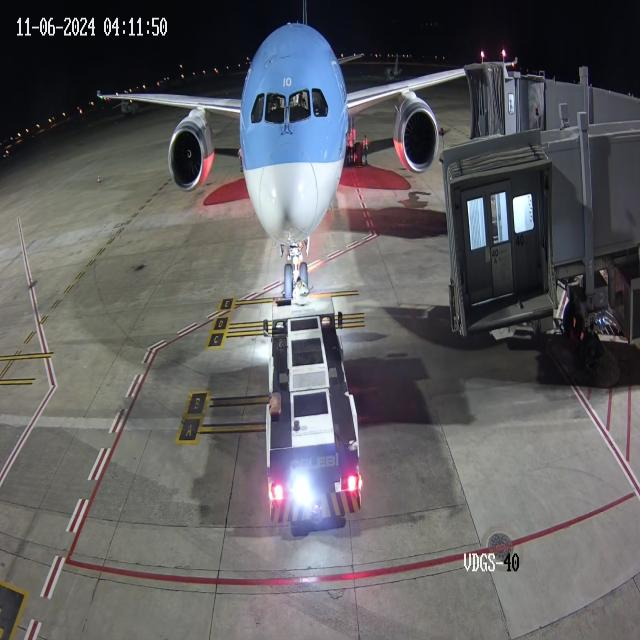bridge: (490, 58, 546, 139)
plane: (92, 6, 440, 302)
window: (247, 82, 333, 132)
